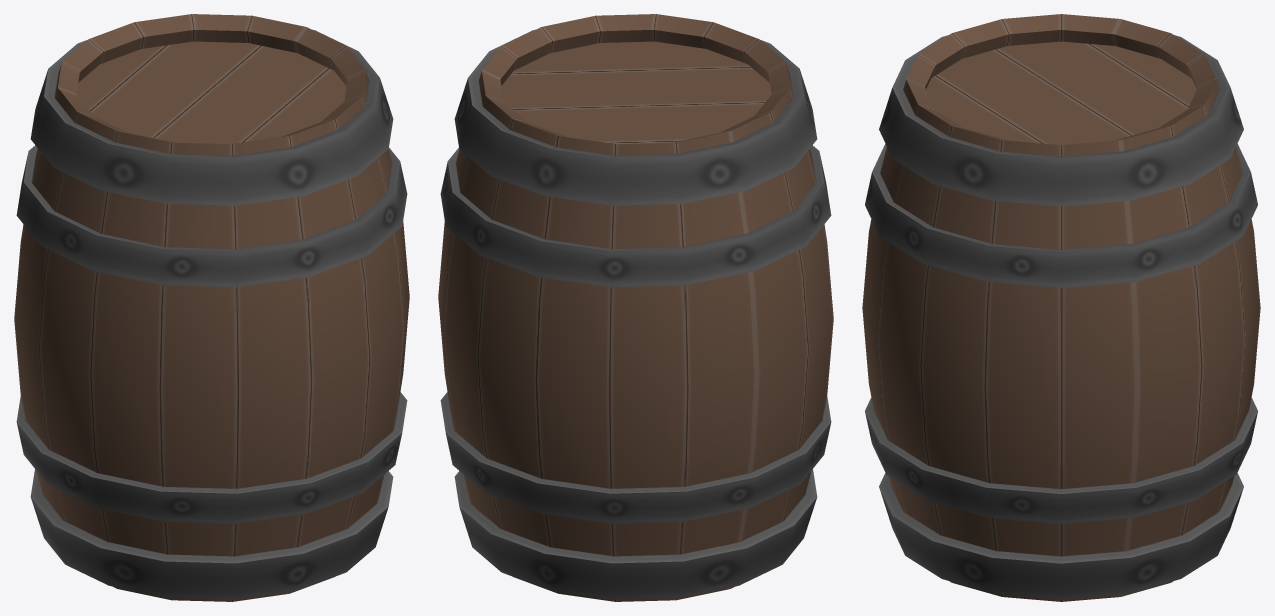
The model's file is Barrel.fbx.
3 renders of one model, left to right at view 1: azimuth 30°, elevation 25°; view 2: azimuth 150°, elevation 25°; view 3: azimuth 270°, elevation 25°, orthographic.
Parts seen in each view (by area): view 1: Barrel_Lowpoly; view 2: Barrel_Lowpoly; view 3: Barrel_Lowpoly.
Boxes of the visible parts, x1,y1,x2,y2 form: Barrel_Lowpoly: (14, 14, 409, 601); Barrel_Lowpoly: (438, 14, 833, 601); Barrel_Lowpoly: (862, 14, 1260, 601).
Bounding box in the file's own units: 135 × 171 × 135.
